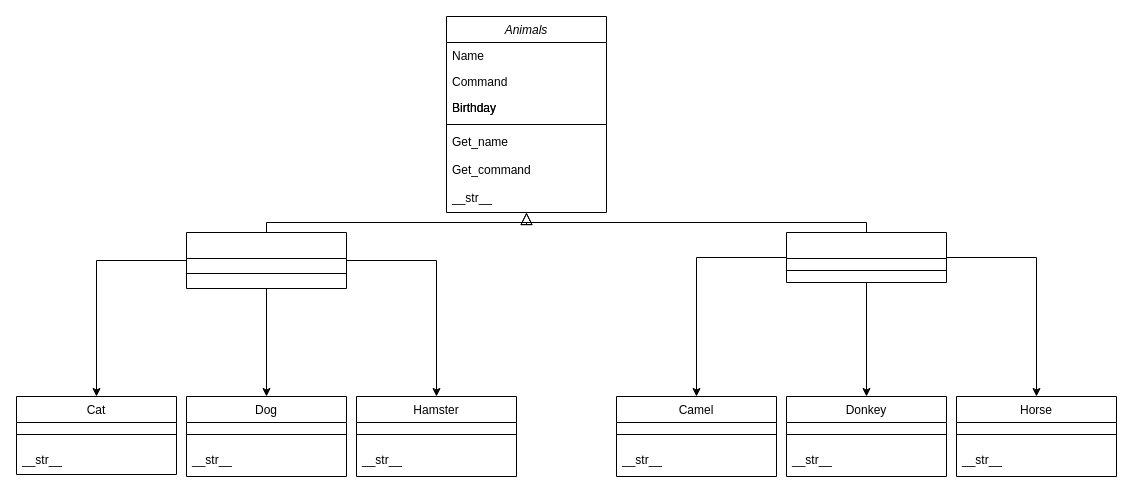
Some shapes in this 1133 by 493 pixel diagram are drawn without their labels. The centre of each missing label's shape, as x and y in pixels:
"HomeAnimals" belongs at point (266, 260).
"PackAnimals" belongs at point (866, 257).
